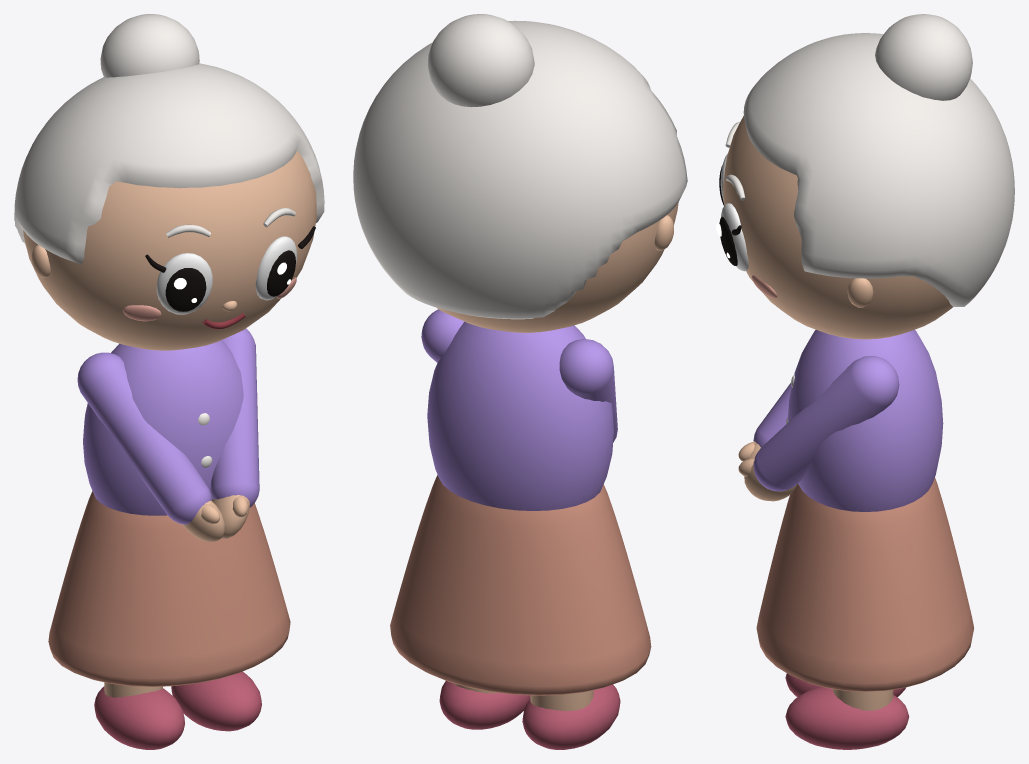
File: grandmother.glb
3 renders of one model, left to right at view 1: azimuth 30°, elevation 25°; view 2: azimuth 150°, elevation 25°; view 3: azimuth 270°, elevation 25°, orthographic. The views are drawn at different scales.
Visible parts, largest first — view 1: grandmother; view 2: grandmother; view 3: grandmother.
Part boxes in pixels (x1=…): grandmother: x1=14, y1=14, x2=324, y2=749; grandmother: x1=353, y1=14, x2=687, y2=749; grandmother: x1=716, y1=14, x2=1014, y2=749.
Size of the model in its own units: 0.6356 by 1.5 by 0.575.
